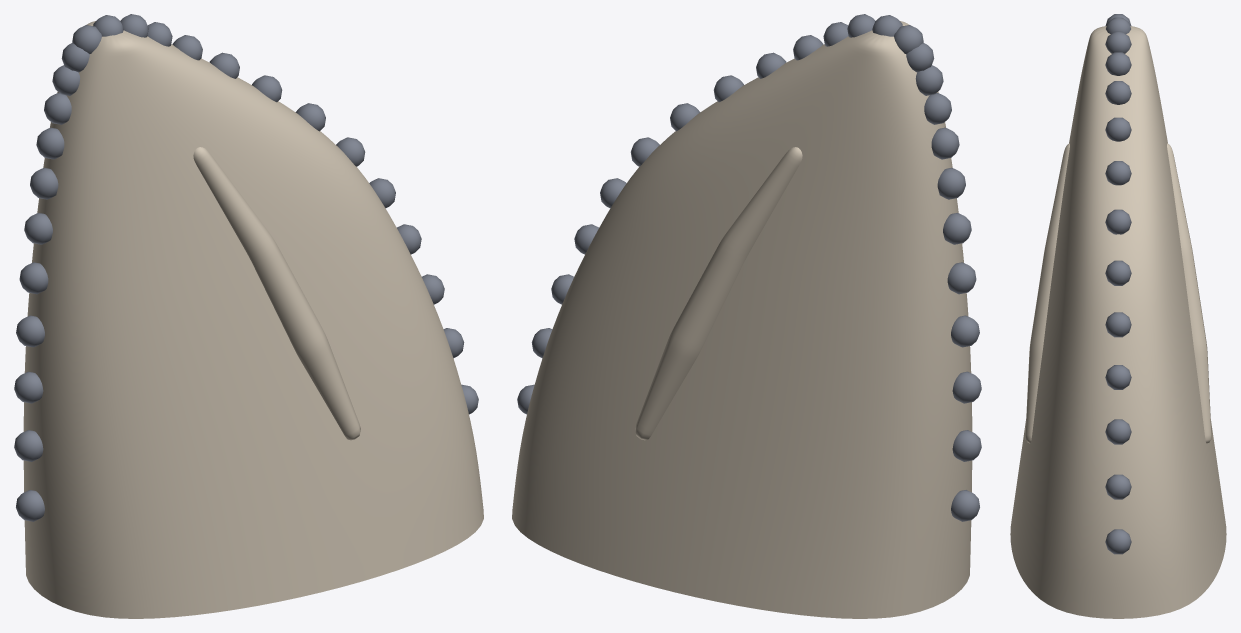
File: creature.casque.glb
3 views of the same model, side by side, from view 1: azimuth 30°, elevation 25°; view 2: azimuth 150°, elevation 25°; view 3: azimuth 270°, elevation 25° (orthographic). The views are drawn at different scales.
Parts seen in each view (by area): view 1: Skin, BackSkin; view 2: Skin, BackSkin; view 3: Skin, BackSkin.
Boxes of the visible parts, x1,y1,x2,y2 form: Skin: (23,21,483,618); BackSkin: (14,14,478,521); Skin: (512,21,972,618); BackSkin: (517,14,981,521); Skin: (1010,26,1226,618); BackSkin: (1105,14,1131,554).
Size of the model in its own units: 1.18 by 1.38 by 0.5892.
